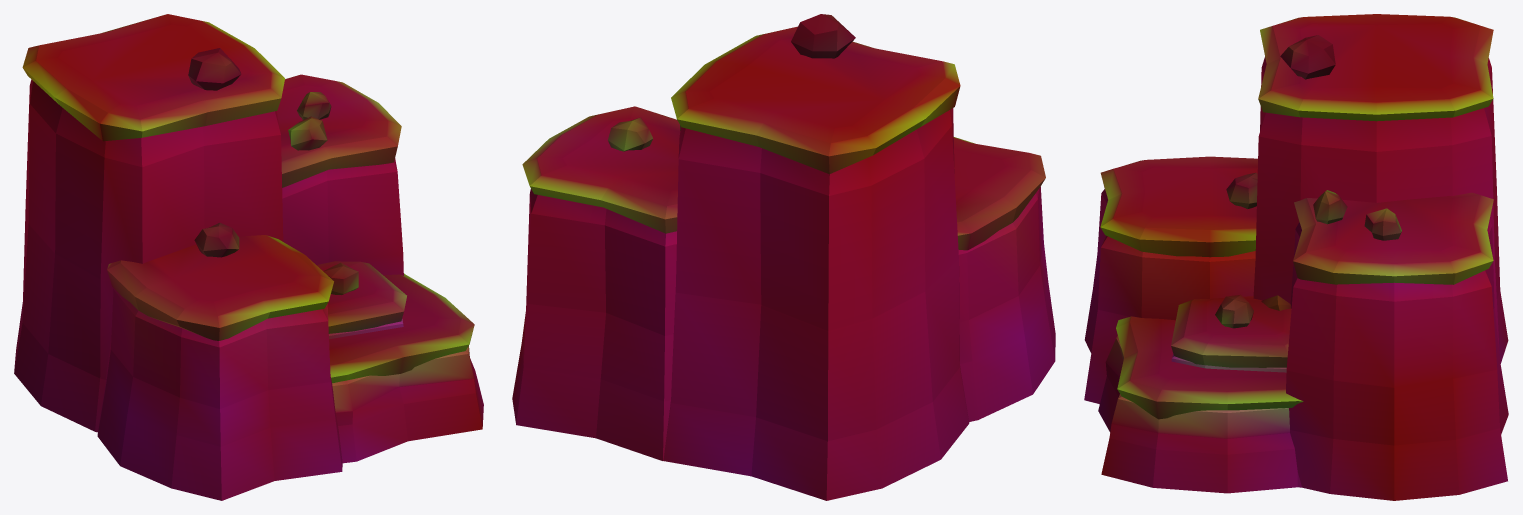
The model's file is Cliff_Cluster_Corner.fbx.
The picture shows the model from 3 angles, left to right: view 1: azimuth 30°, elevation 25°; view 2: azimuth 150°, elevation 25°; view 3: azimuth 270°, elevation 25°; orthographic projection. The views are drawn at different scales.
Visible parts, largest first — view 1: Cliff_Cluster_Corner; view 2: Cliff_Cluster_Corner; view 3: Cliff_Cluster_Corner.
Boxes of the visible parts, x1,y1,x2,y2 form: Cliff_Cluster_Corner: (14,14,483,500); Cliff_Cluster_Corner: (512,14,1055,500); Cliff_Cluster_Corner: (1084,14,1508,500).
Size of the model in its own units: 4.89 by 4.43 by 4.84.
